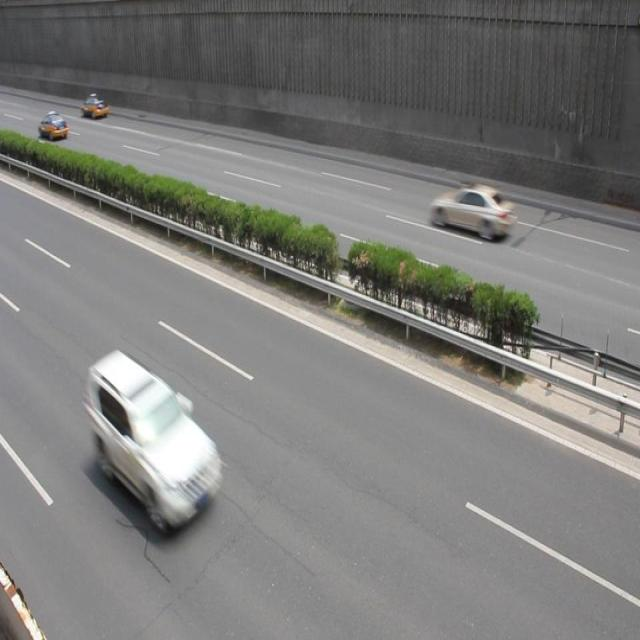car: (87, 350, 226, 536), (431, 183, 516, 240), (38, 110, 68, 140), (81, 94, 108, 118)
